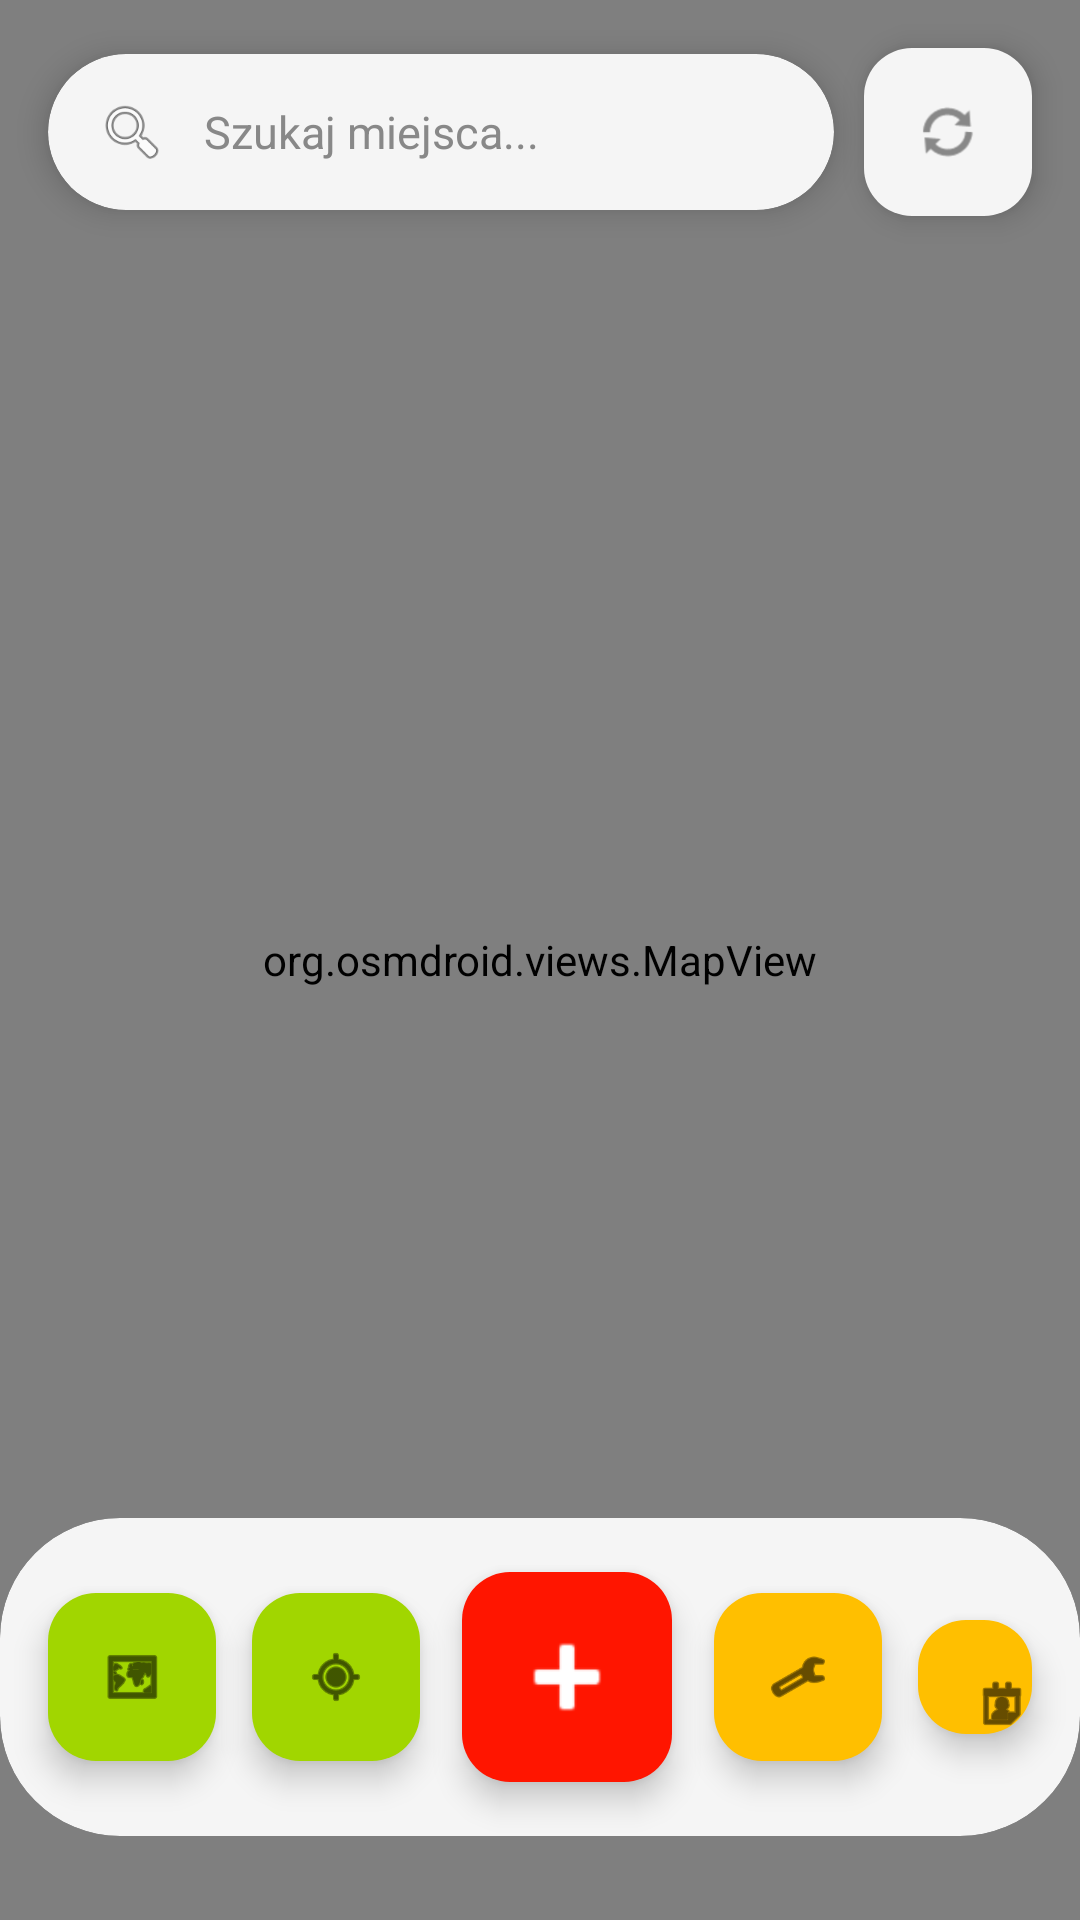

Point at icon controls on the screen. Image size 1080 × 1920, points as (x=x, y=y).
Dodaj pinezkę: (x=567, y=1677)
Moja lokalizacja: (x=336, y=1677)
Odśwież mapę: (x=948, y=132)
Profil użytkownika: (x=975, y=1677)
search: (x=132, y=132)
Ustawienia: (x=798, y=1677)
